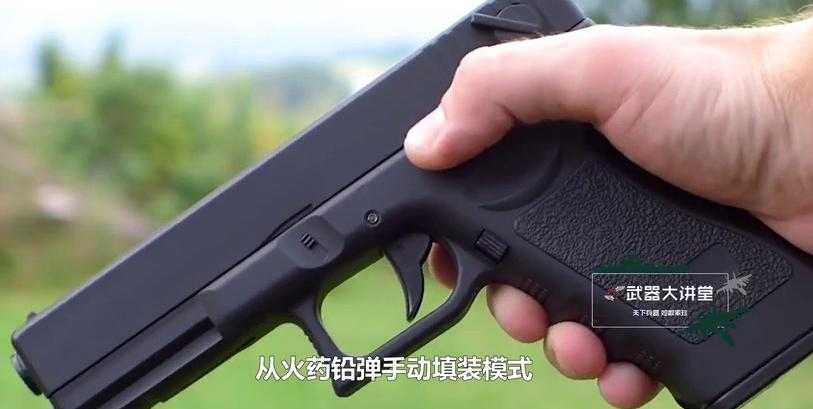gun: (1, 1, 813, 409)
